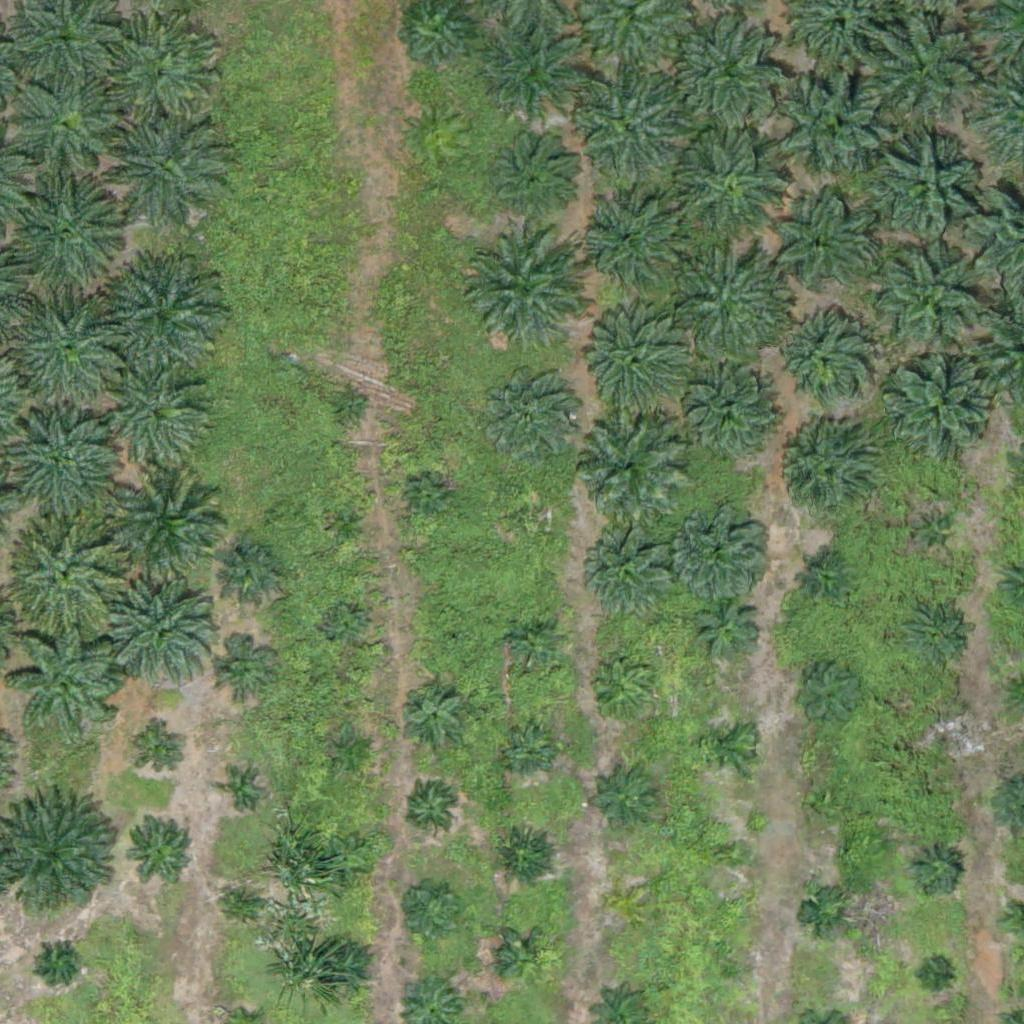Kelapa_Sawit: (98, 10, 223, 136), (5, 293, 130, 419), (102, 110, 227, 236), (98, 255, 223, 381), (109, 475, 234, 601), (458, 226, 583, 352), (868, 240, 993, 366), (670, 241, 795, 366), (569, 409, 682, 522), (673, 14, 786, 127), (673, 127, 786, 240), (771, 65, 884, 178), (885, 355, 998, 468), (11, 622, 124, 735), (865, 16, 977, 130), (479, 16, 591, 129), (574, 72, 686, 185), (576, 305, 688, 418), (867, 129, 979, 242), (108, 582, 220, 695), (12, 517, 124, 630), (109, 370, 209, 471), (479, 365, 579, 466), (582, 193, 682, 294), (680, 365, 780, 466), (770, 193, 870, 294), (772, 310, 872, 411), (770, 423, 870, 524), (675, 500, 775, 601), (16, 80, 116, 180), (491, 130, 578, 218), (588, 533, 675, 621), (391, 875, 466, 951), (123, 811, 198, 886), (789, 656, 864, 731), (314, 939, 377, 1002), (210, 638, 273, 701), (220, 540, 283, 603), (594, 768, 657, 831), (493, 823, 556, 886), (503, 613, 566, 676), (400, 682, 462, 745), (905, 604, 967, 667), (696, 595, 758, 658), (594, 658, 656, 721), (137, 728, 187, 779), (702, 718, 752, 769), (909, 843, 959, 894), (325, 837, 375, 888), (499, 932, 549, 982), (407, 784, 457, 834), (501, 725, 551, 775), (801, 890, 851, 940), (905, 508, 955, 558), (39, 941, 77, 979), (809, 786, 847, 824), (325, 604, 363, 642), (329, 506, 367, 544), (330, 387, 368, 425), (332, 730, 370, 768), (807, 562, 845, 599), (515, 500, 553, 537), (411, 480, 448, 518), (223, 775, 260, 812), (227, 885, 264, 922), (932, 719, 957, 744), (921, 962, 946, 987), (720, 955, 745, 980), (720, 839, 745, 864), (615, 893, 640, 918), (442, 630, 467, 655)
